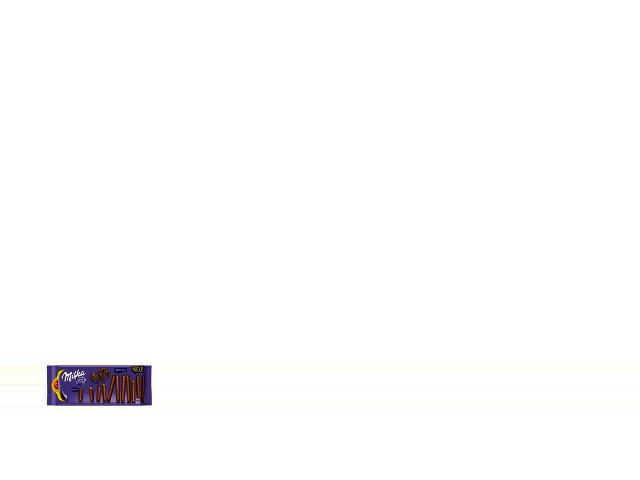chocolate: (45, 364, 153, 411)
